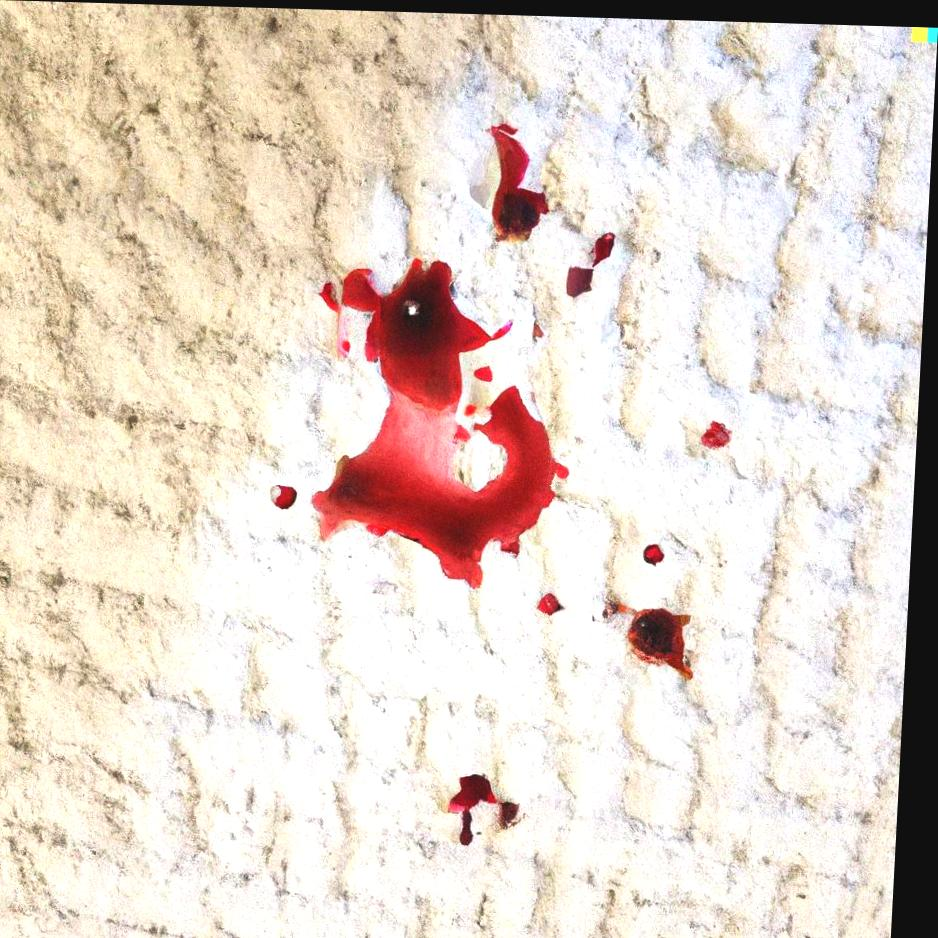Fire: (316, 255, 574, 588), (491, 121, 553, 240), (633, 603, 699, 677), (455, 770, 506, 843), (590, 228, 617, 265), (569, 263, 597, 296), (504, 799, 530, 828), (543, 589, 571, 613), (279, 483, 302, 508), (648, 540, 669, 563)
